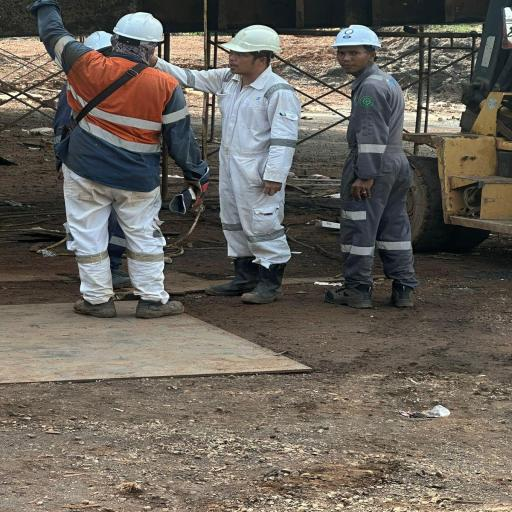safety_shoe: (239, 264, 290, 304), (208, 257, 255, 296), (323, 283, 375, 309), (133, 294, 186, 319), (72, 298, 116, 317), (388, 283, 417, 307)
